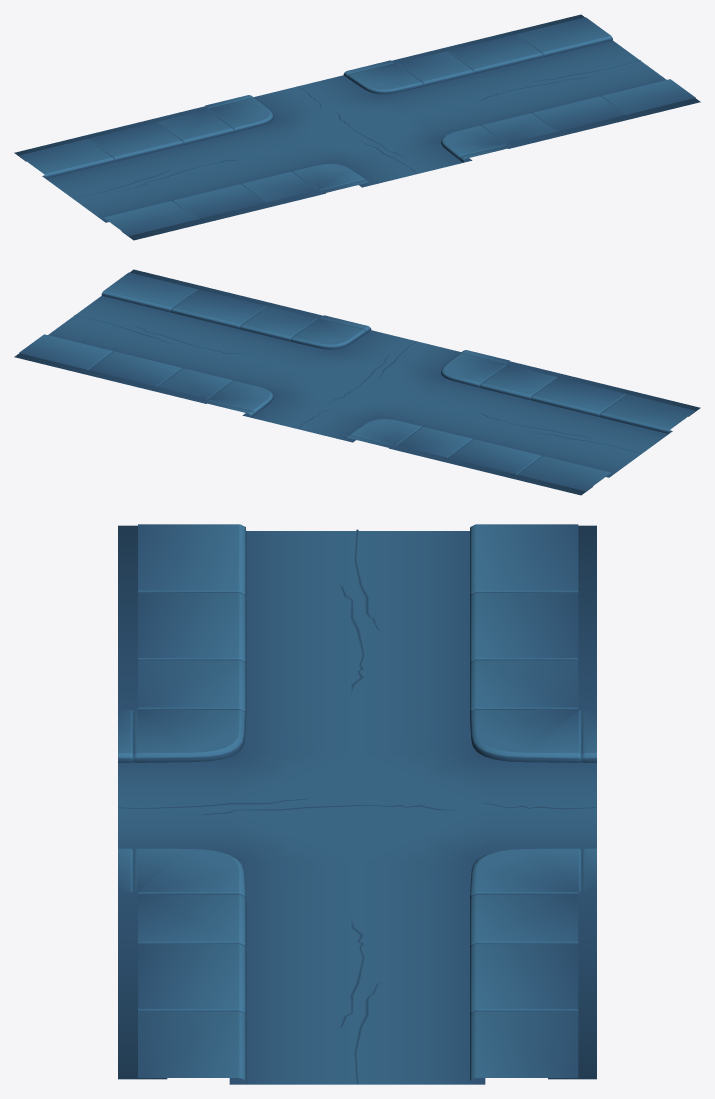
The model's file is Road04Night.glb.
3 renders of one model, top to bottom at view 1: azimuth 30°, elevation 25°; view 2: azimuth 150°, elevation 25°; view 3: azimuth 270°, elevation 25°, orthographic. The views are drawn at different scales.
Parts seen in each view (by area): view 1: Road04Night; view 2: Road04Night; view 3: Road04Night.
Boxes of the visible parts, box(x1,y1,x2,y2) form: Road04Night: box(14, 14, 700, 240); Road04Night: box(14, 269, 700, 495); Road04Night: box(118, 524, 596, 1084).
Size of the model in its own units: 24.61 by 0.1458 by 9.
